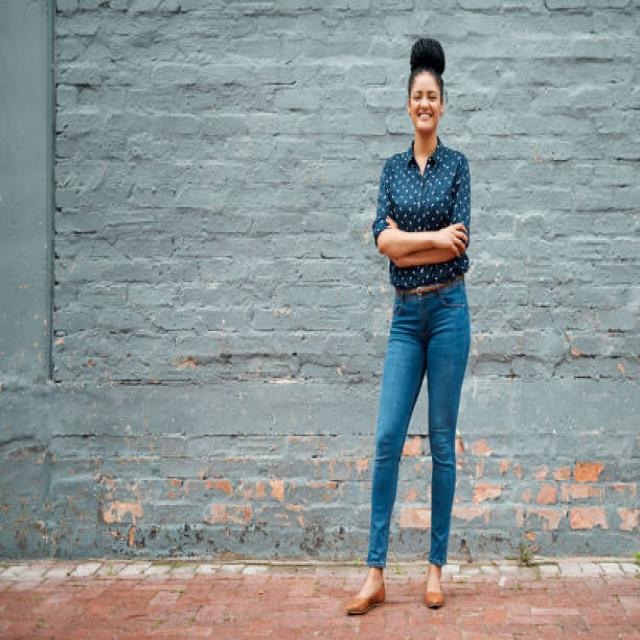Real human 2: (356, 19, 486, 620)
